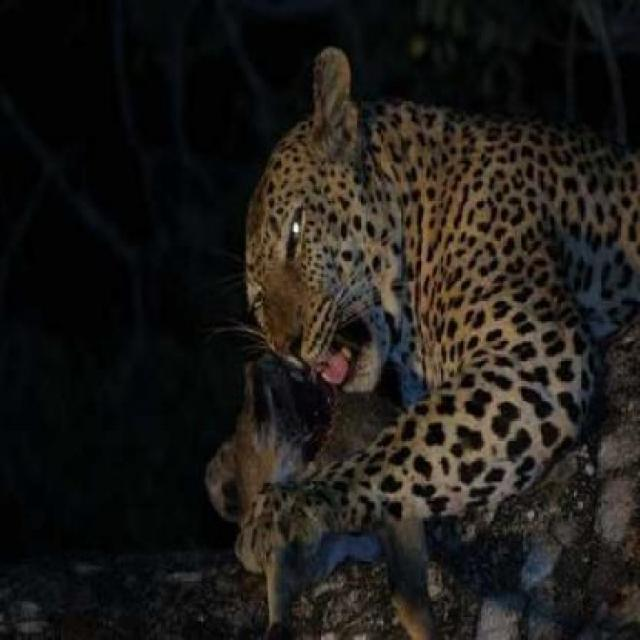Leopard: (242, 47, 640, 482)
